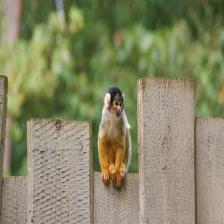monkey: (94, 86, 138, 196)
